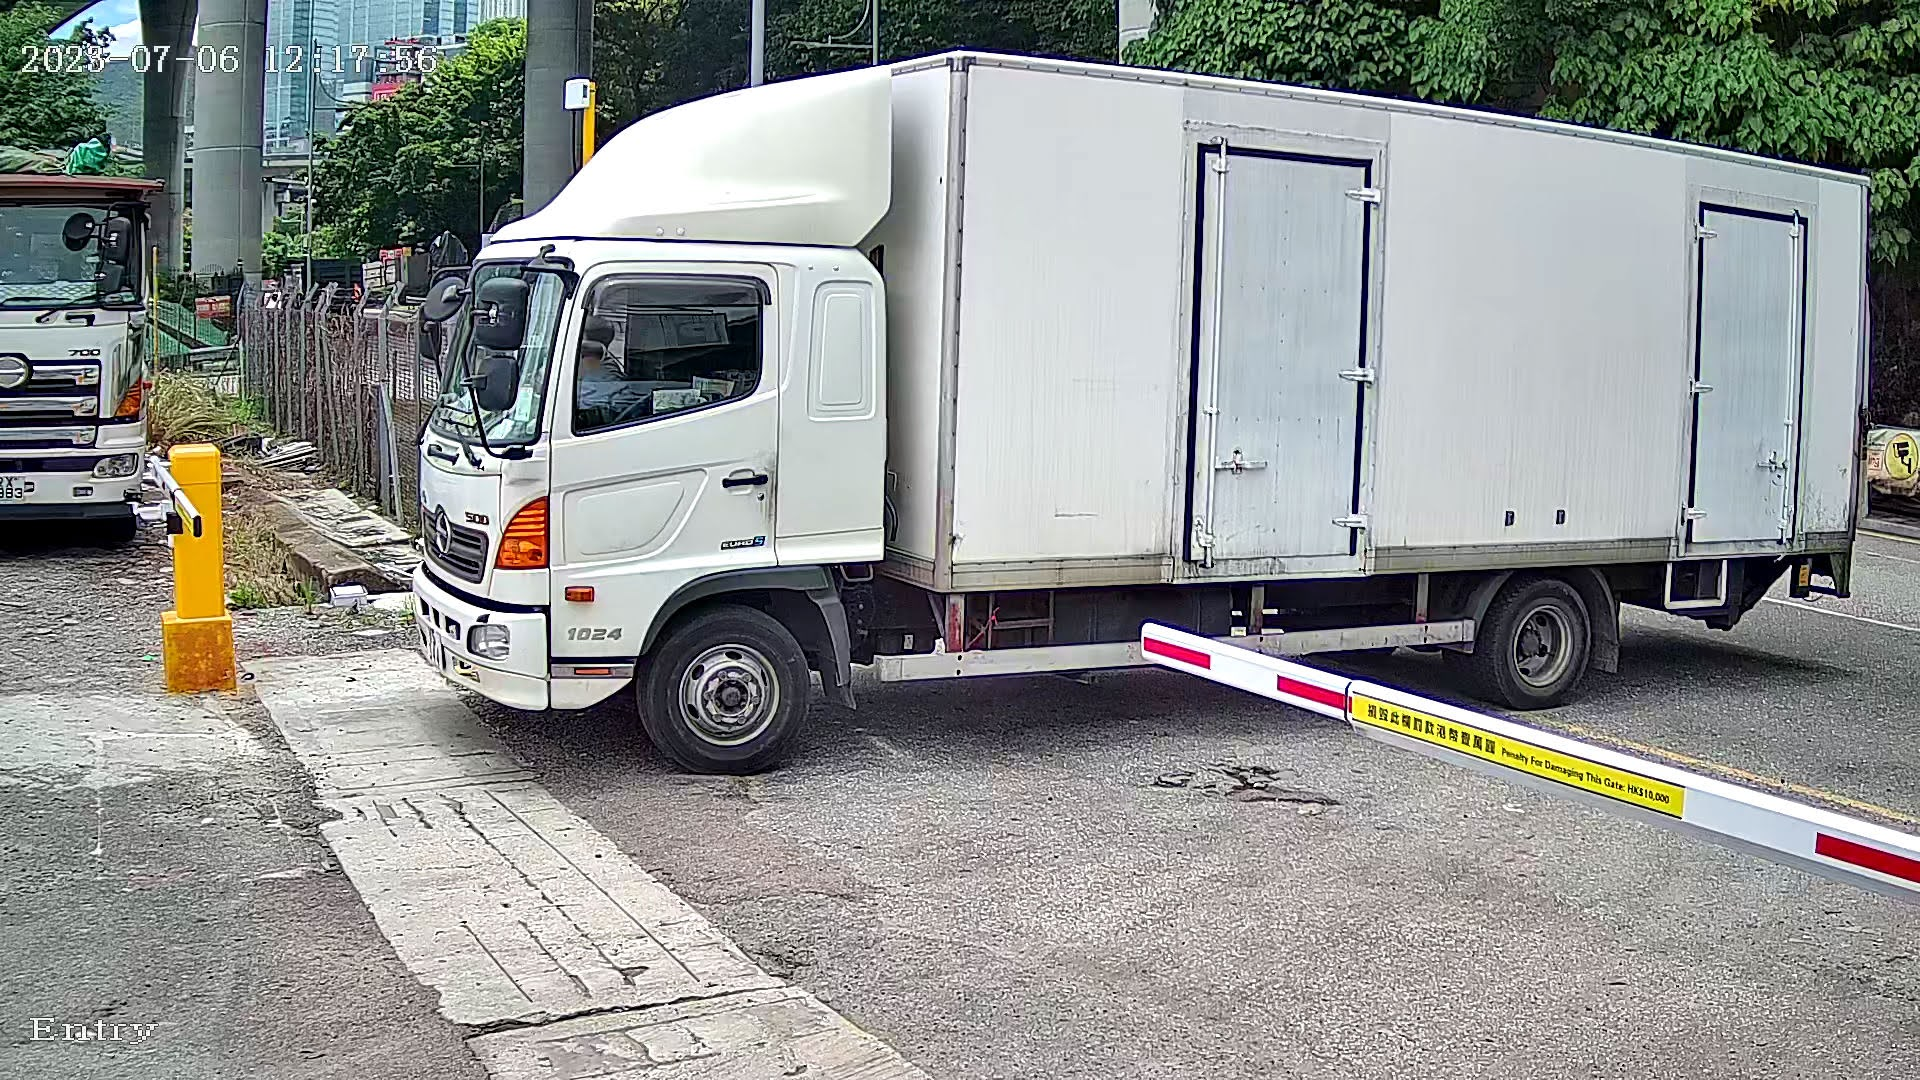truck: (313, 1, 1916, 781)
